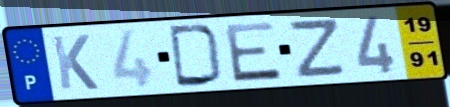4: (109, 28, 156, 90), (354, 13, 398, 75)
D: (166, 23, 226, 89)
E: (221, 19, 285, 84)
K: (48, 33, 101, 92)
Z: (289, 16, 348, 80)
